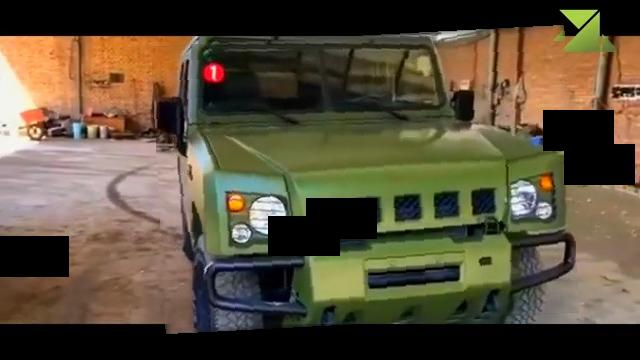MIL_HMMWV: (155, 31, 575, 329)
